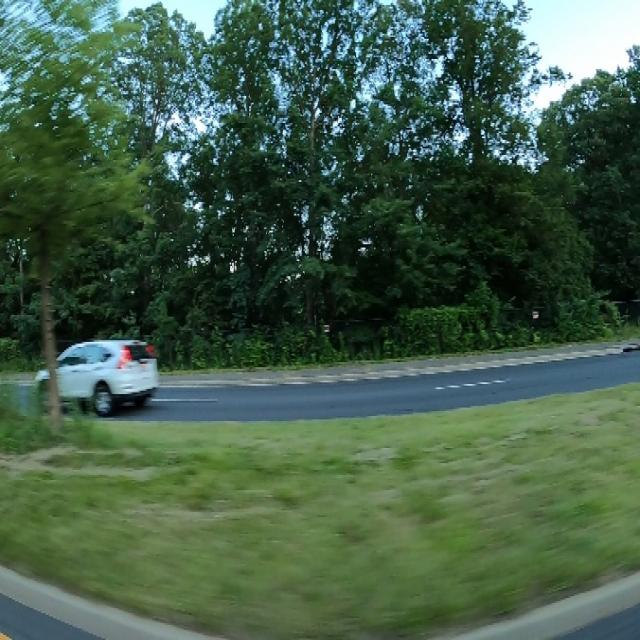cars: (32, 323, 158, 419)
